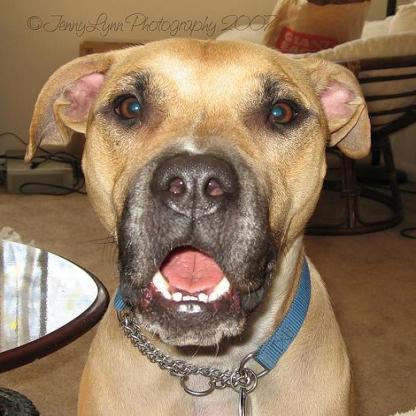bull_mastiff: (22, 34, 372, 414)
